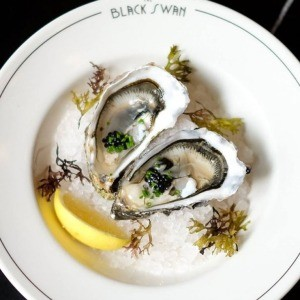oyster_brain food: (100, 73, 219, 208)
